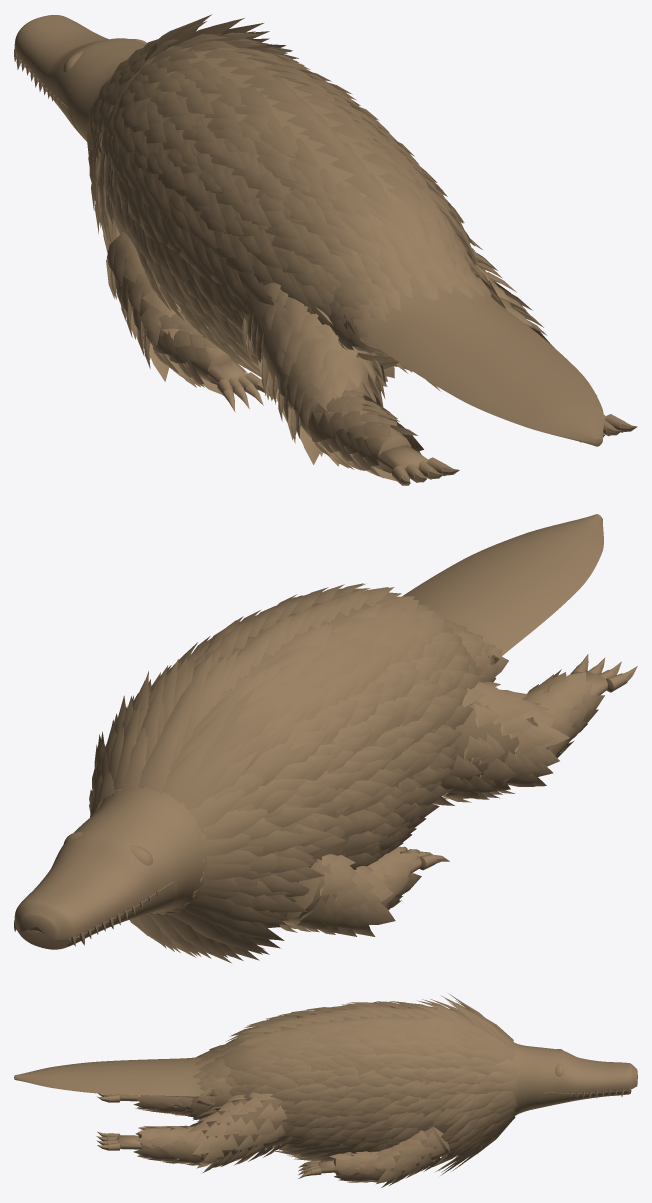
File: river_beast.glb
3 views of the same model, one above another, from view 1: azimuth 30°, elevation 25°; view 2: azimuth 150°, elevation 25°; view 3: azimuth 270°, elevation 25° (orthographic). The views are drawn at different scales.
Visible parts, largest first — view 1: river_beast; view 2: river_beast; view 3: river_beast.
Boxes of the visible parts, x1=… form: river_beast: x1=14, y1=14, x2=637, y2=485; river_beast: x1=14, y1=514, x2=637, y2=963; river_beast: x1=14, y1=993, x2=637, y2=1187.
Bounding box in the file's own units: 1.07 × 1.2 × 3.94.
